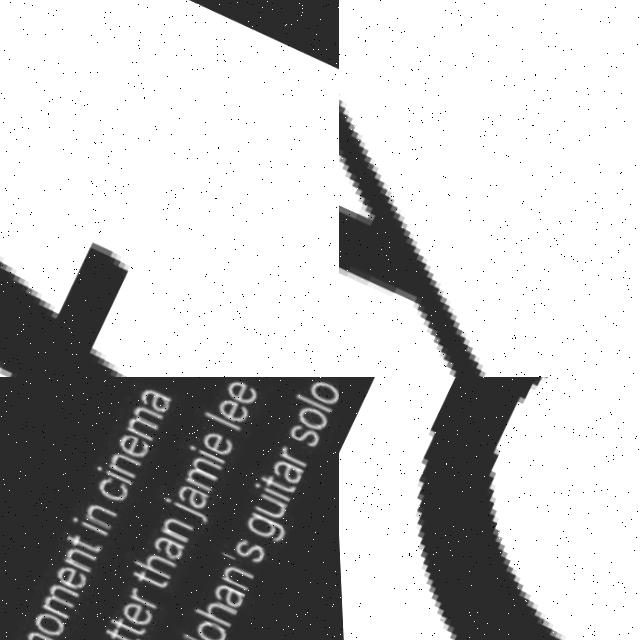A: (146, 536, 184, 569), (171, 485, 209, 518), (266, 460, 304, 493), (206, 584, 243, 615), (137, 390, 170, 418)
C: (94, 478, 128, 508)
E: (195, 431, 235, 467), (111, 432, 150, 467), (48, 563, 87, 597), (219, 381, 257, 415), (212, 398, 250, 431), (114, 600, 152, 633)
F: (0, 0, 339, 377)
G: (242, 514, 285, 551)
H: (126, 548, 174, 587), (189, 596, 233, 632)
I: (249, 485, 288, 510), (94, 467, 130, 492), (69, 517, 106, 541), (185, 447, 221, 469)
J: (160, 498, 208, 529)
L: (200, 412, 239, 438), (292, 396, 332, 421), (175, 633, 216, 640)
M: (35, 582, 77, 624), (121, 405, 163, 447), (179, 457, 219, 498), (12, 628, 55, 640)
N: (58, 546, 96, 579), (103, 451, 140, 483), (156, 517, 193, 549), (79, 502, 116, 534), (215, 566, 252, 597)
O: (410, 377, 640, 640), (290, 406, 330, 442), (24, 608, 64, 640), (303, 382, 339, 416), (185, 619, 224, 640)
R: (274, 448, 309, 475), (125, 591, 154, 613)
S: (228, 541, 265, 572), (283, 426, 320, 456)
T: (256, 476, 293, 505), (126, 568, 164, 596), (62, 533, 100, 560), (103, 615, 142, 640), (99, 627, 137, 640)
U: (249, 496, 287, 528)
Y: (339, 0, 640, 377)
